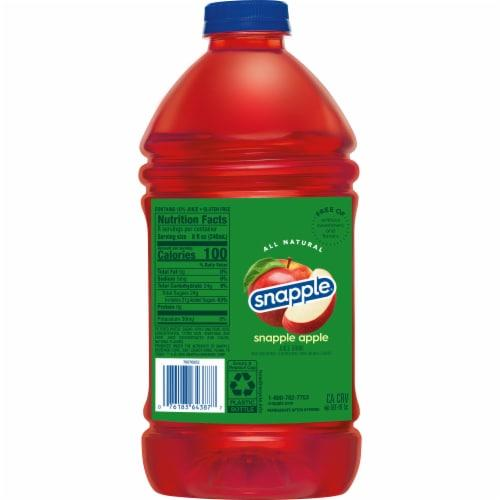juice: (140, 1, 362, 498)
